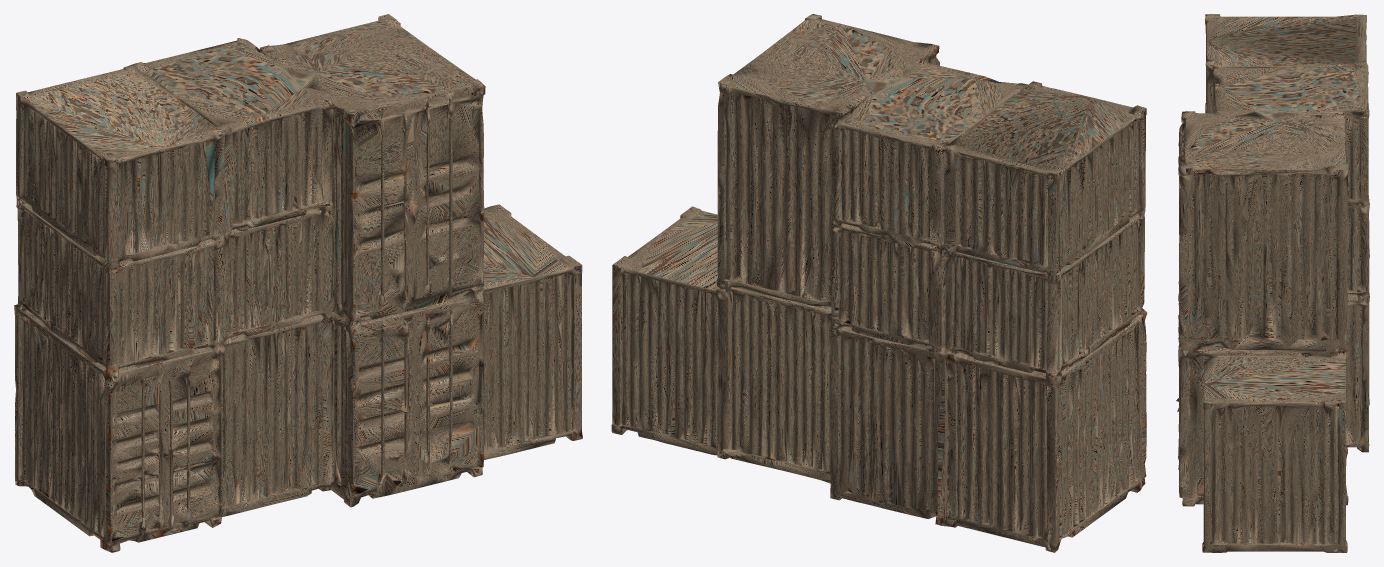
File: vnCargo.8a392251.glb
3 views of the same model, side by side, from view 1: azimuth 30°, elevation 25°; view 2: azimuth 150°, elevation 25°; view 3: azimuth 270°, elevation 25° (orthographic). The views are drawn at different scales.
Bounding box in the file's own units: 1.9 × 1.51 × 0.78.
1 material, 1 textured.
